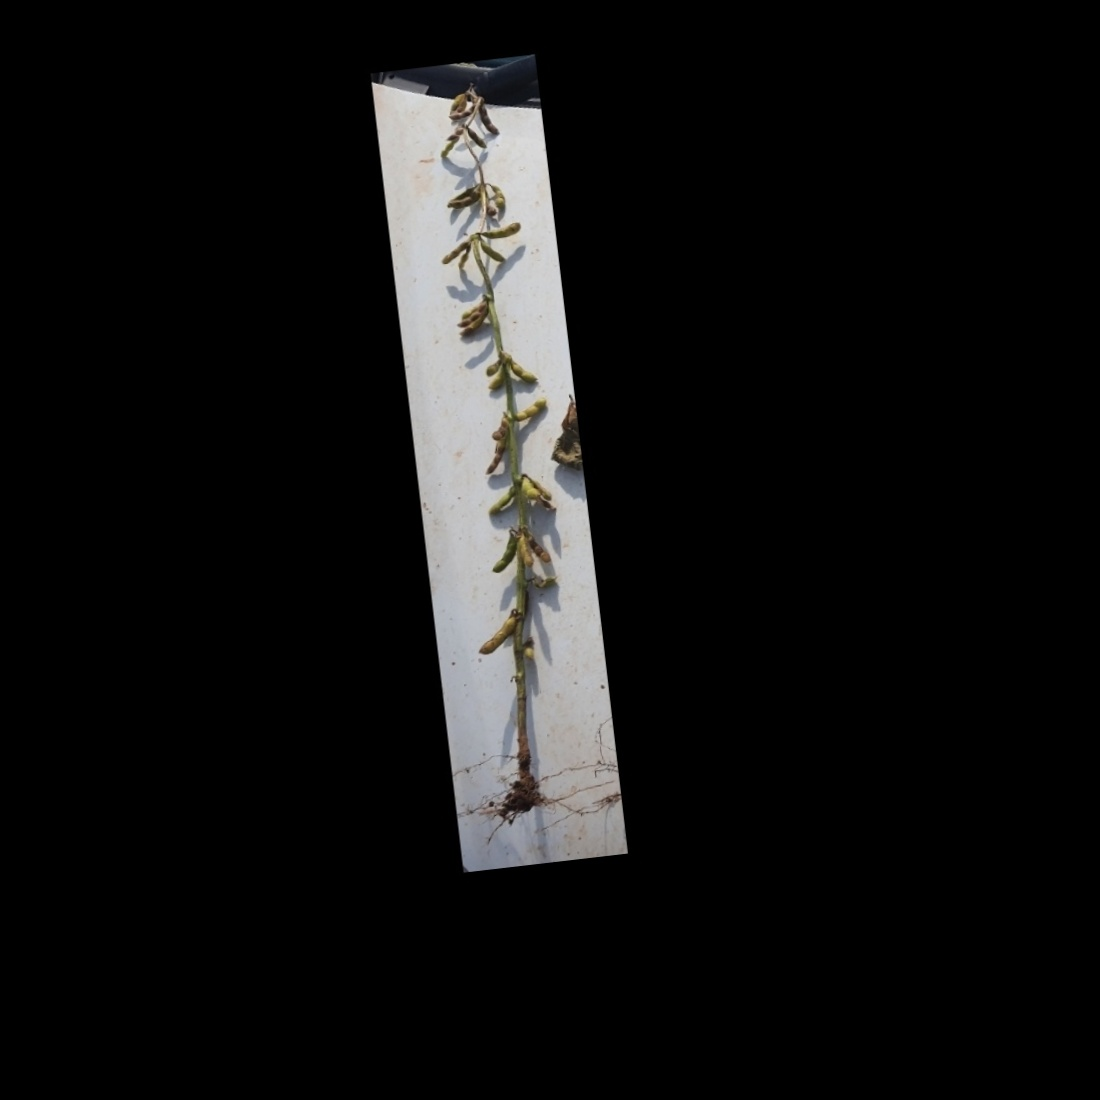pod: (473, 613, 520, 657), (486, 528, 522, 574), (483, 480, 522, 516), (482, 437, 512, 477), (478, 218, 525, 243), (506, 354, 539, 386), (511, 397, 550, 424), (524, 530, 553, 564), (476, 99, 500, 138), (438, 238, 471, 264), (480, 238, 508, 266), (517, 531, 533, 571), (446, 104, 480, 121), (454, 244, 474, 270), (487, 182, 507, 209), (467, 124, 487, 150)
soy: (405, 68, 599, 834)
